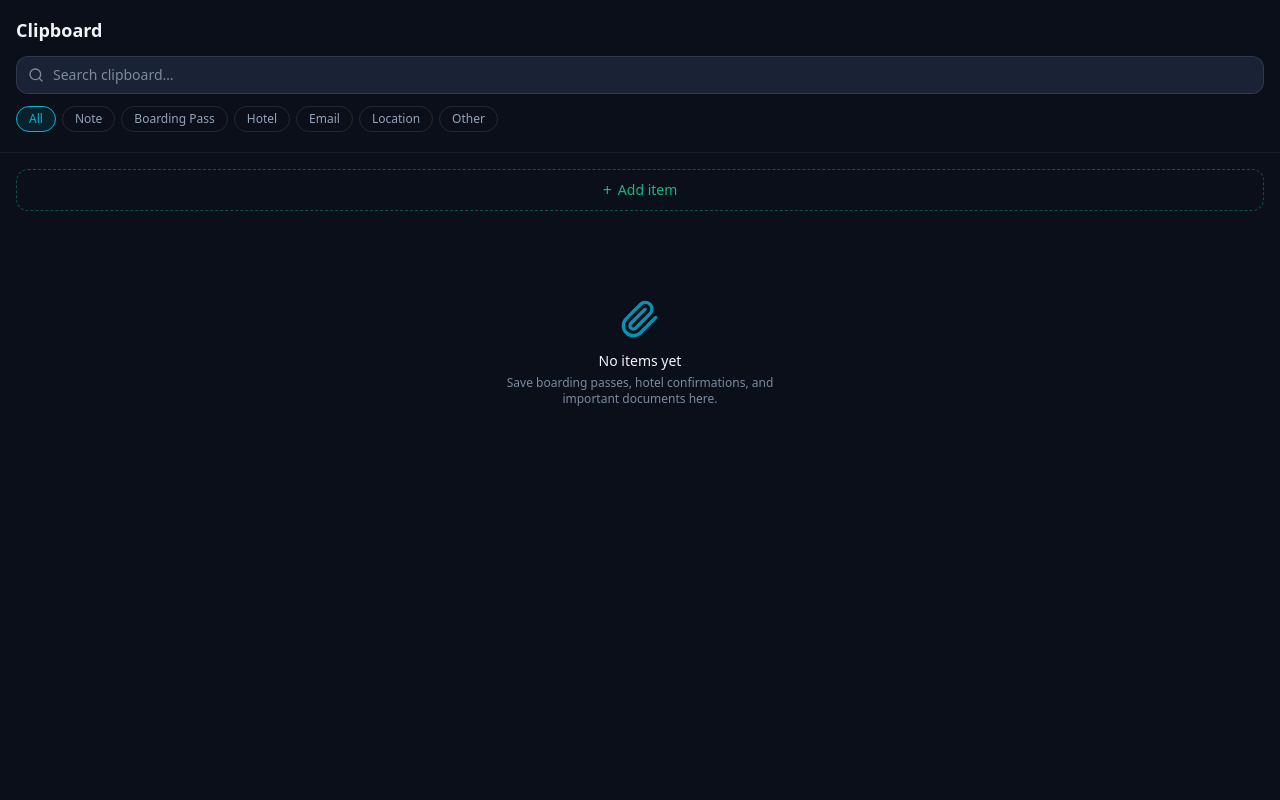
it: ClipboardTab › opens the add drawer when clicking Add item
Click the button with test id "add-item-btn" at (640, 190), box [16, 169, 1264, 211]
(page scrolled)
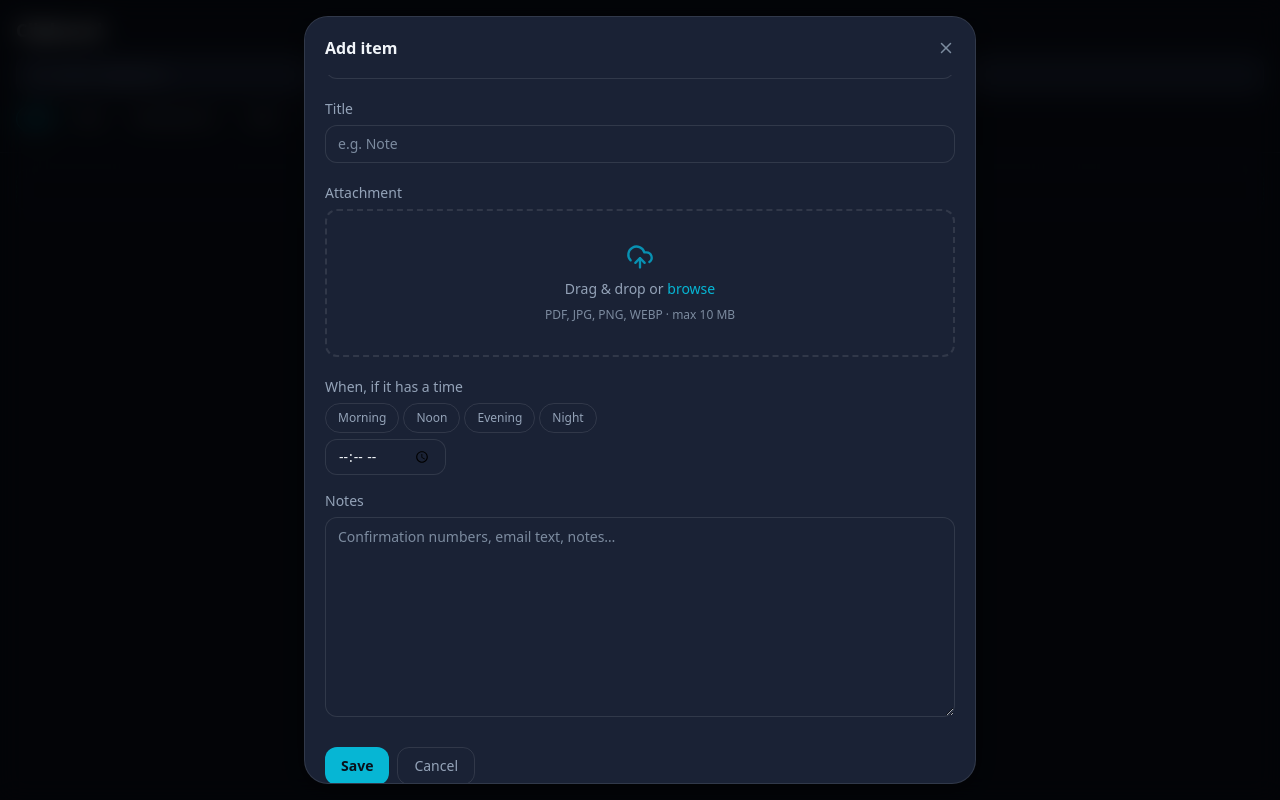
expect the form with test id "add-item-form" is shown: met, box [325, 16, 955, 784]
